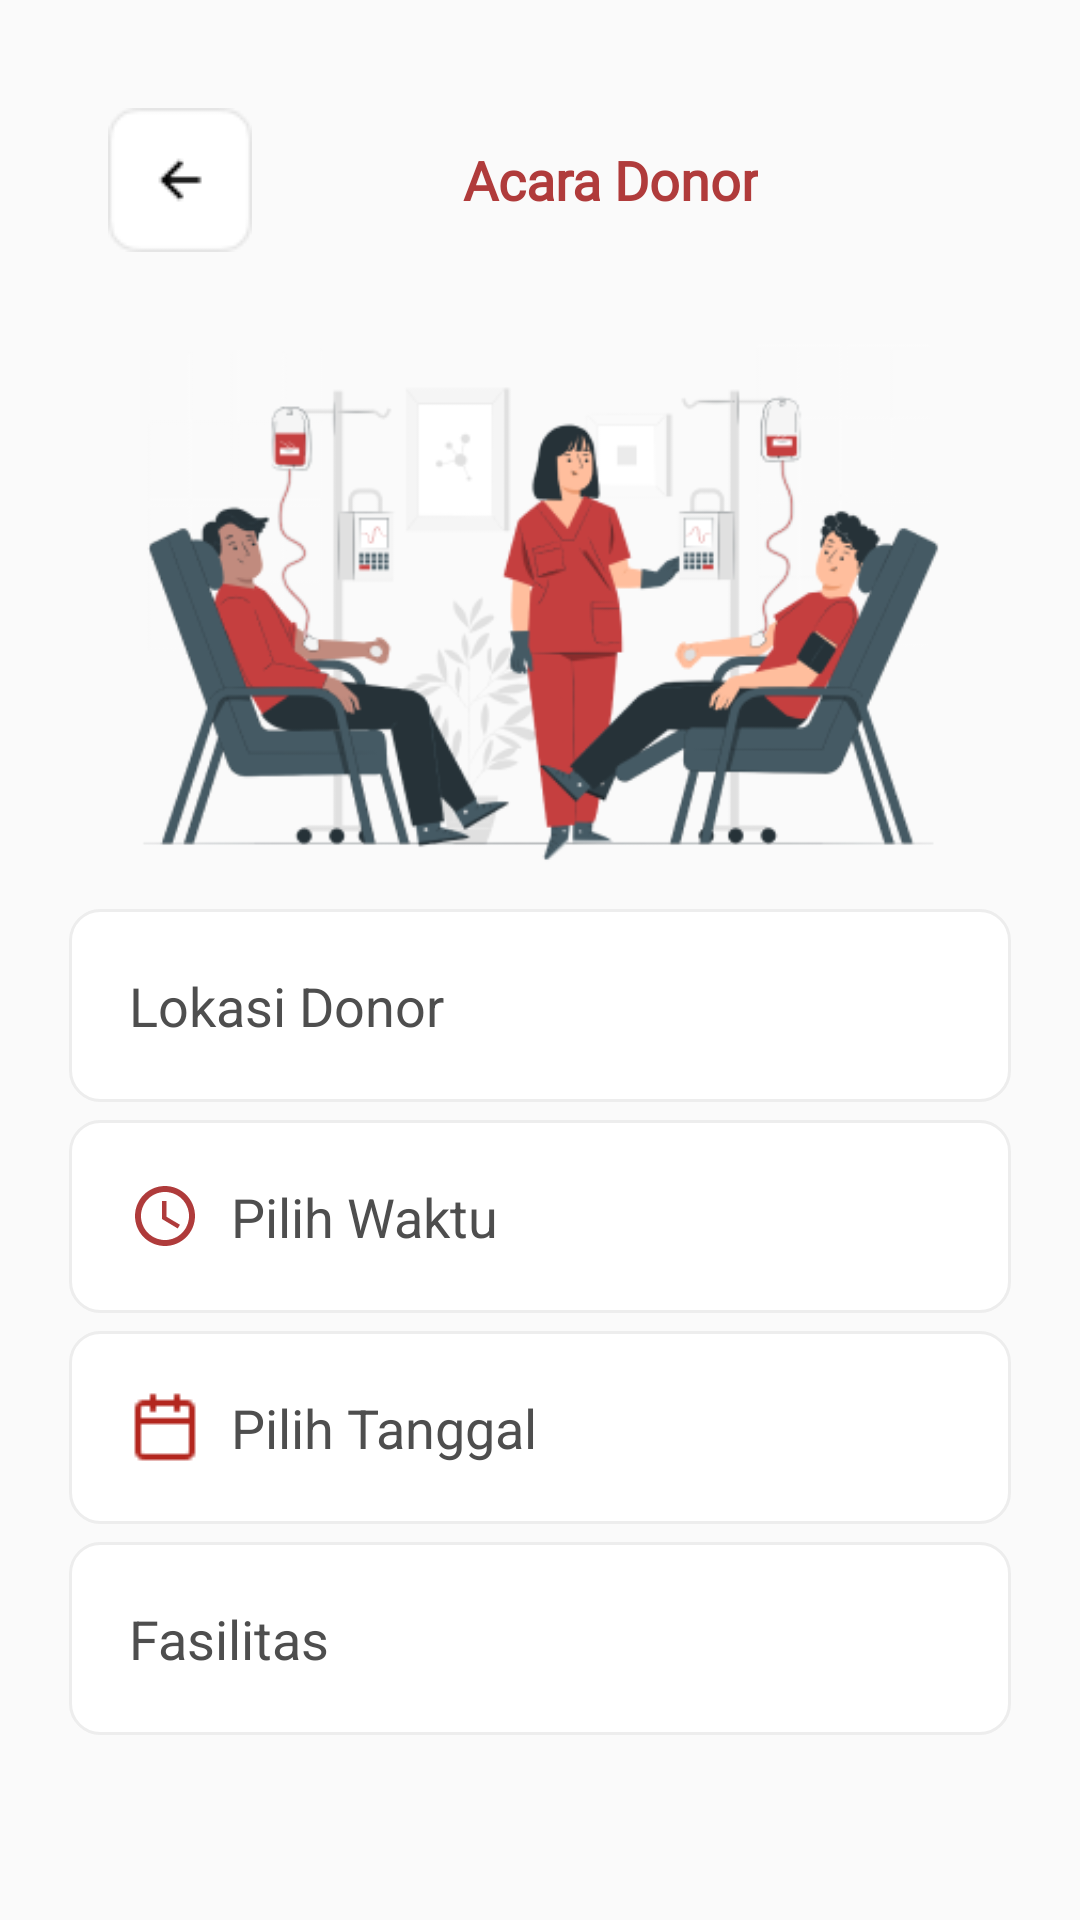

Locate icon controls on the screen. Image size 1080 x 1920, boxes as [x1=x1, y1=y1, x2=x2, y2=y2].
Back Button: [x1=159, y1=159, x2=202, y2=201]
